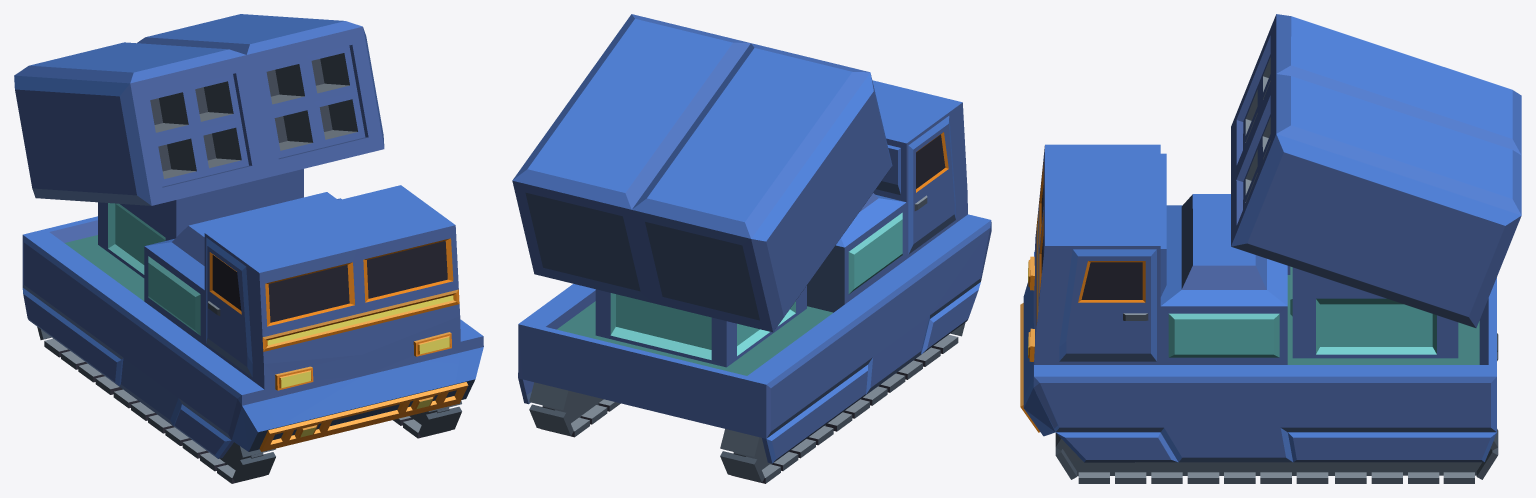
The model's file is Missle_Vehicles.fbx.
3 renders of one model, left to right at view 1: azimuth 30°, elevation 25°; view 2: azimuth 150°, elevation 25°; view 3: azimuth 270°, elevation 25°, orthographic. The views are drawn at different scales.
Parts seen in each view (by area): view 1: Missle_Vehicles; view 2: Missle_Vehicles; view 3: Missle_Vehicles.
Part boxes in pixels (x1,y1,x2,y2): Missle_Vehicles: (14,14,483,483); Missle_Vehicles: (512,14,991,483); Missle_Vehicles: (1020,14,1521,483).
Size of the model in its own units: 162 by 211 by 269.
1 material, 1 textured.
